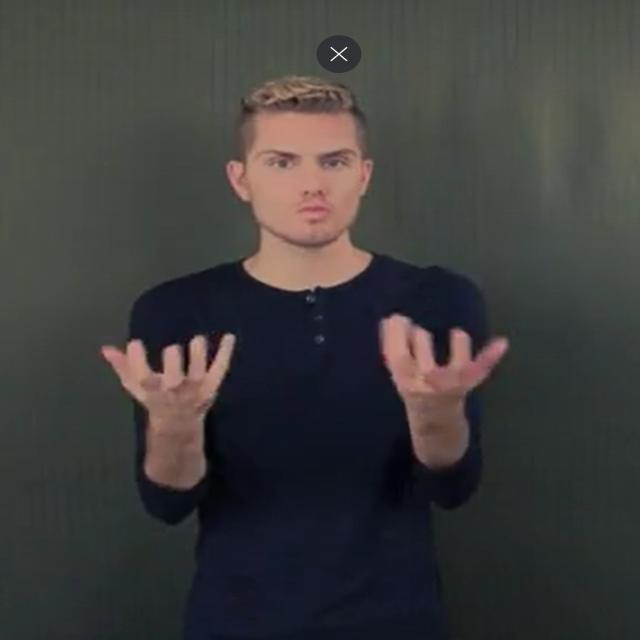want: (103, 315, 510, 421)
